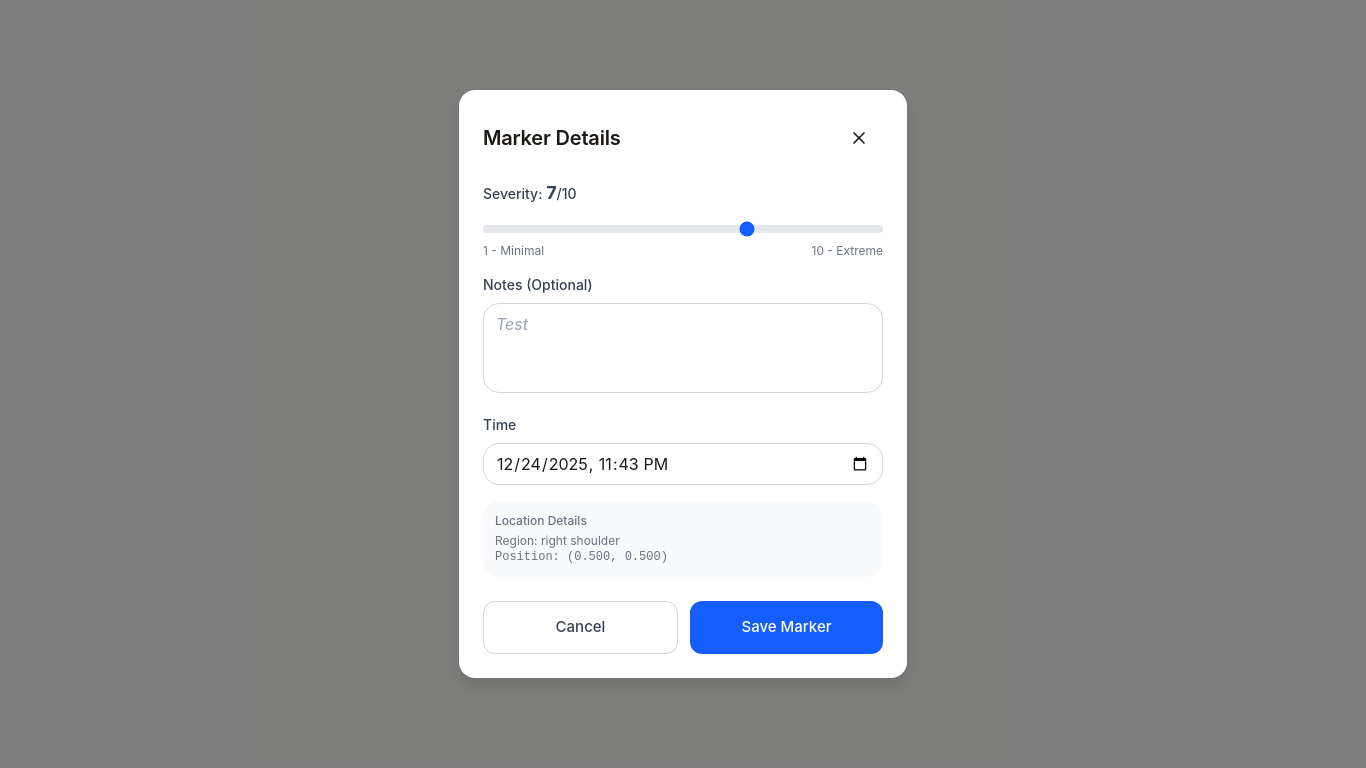
Test: MarkerDetailsForm with Smart Defaults (Story 3.7.3) › AC 3.7.3.4: User can override defaults › allows user to change severity from default
Expected: the text "7" is shown, [546,182,557,203]
Set the slider named "Severity level" to "9" at x=832, y=229, box [483,225,883,233]
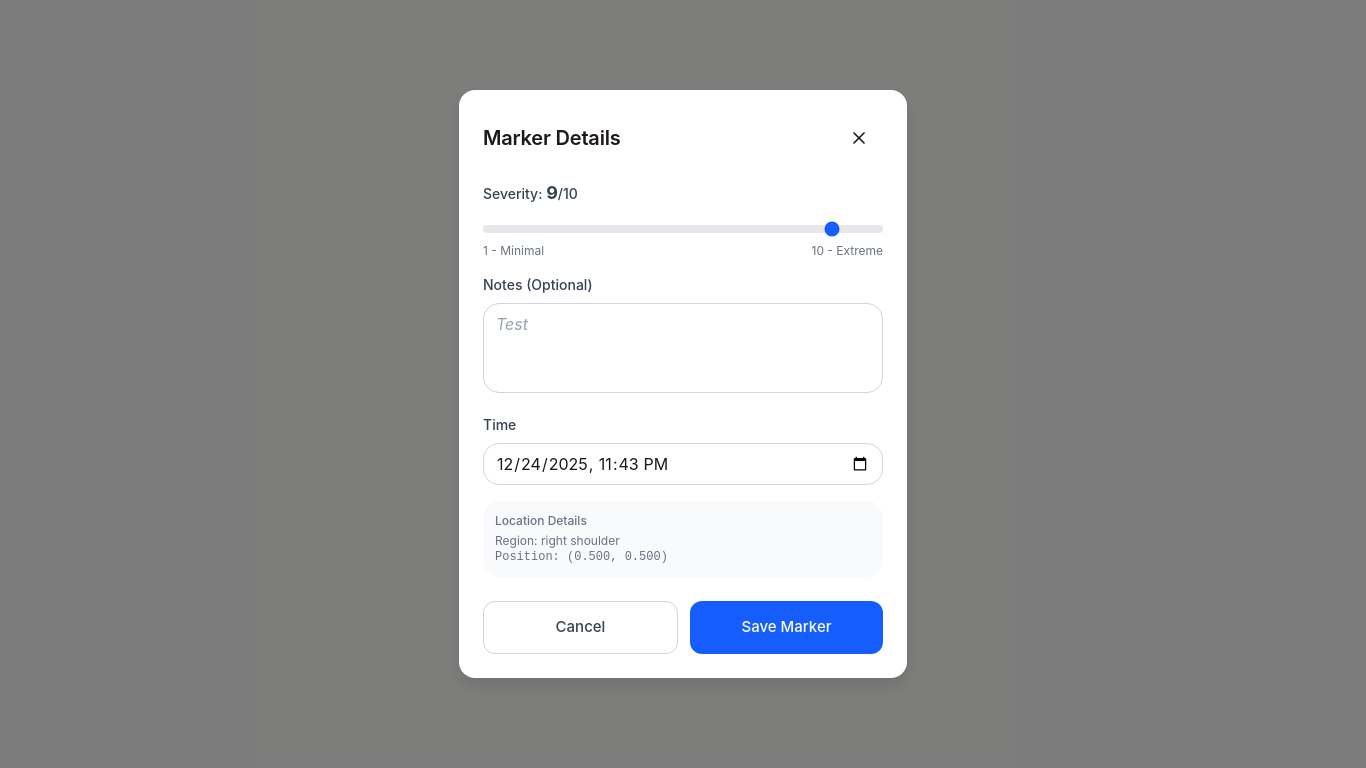
Expected: the text "9" is shown, [546,182,558,203]
